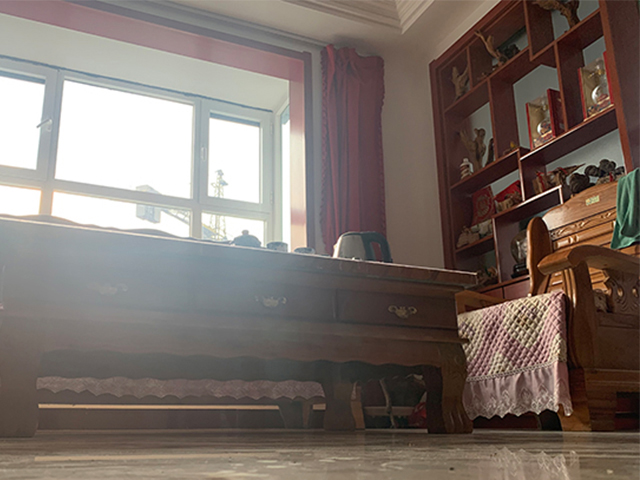sofa: (455, 174, 640, 435)
table: (2, 214, 473, 436)
